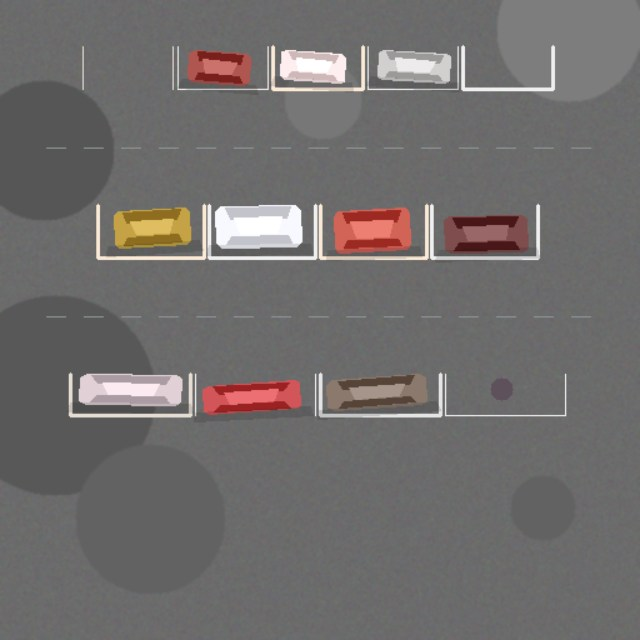space-empty: (445, 374, 565, 415), (83, 46, 173, 89), (463, 46, 553, 89)
space-occupied: (431, 205, 538, 257), (98, 205, 204, 257), (209, 205, 315, 257), (320, 205, 426, 257), (70, 374, 190, 415), (195, 374, 315, 415), (320, 374, 440, 415), (177, 46, 267, 89), (273, 46, 363, 89), (367, 46, 457, 89)
